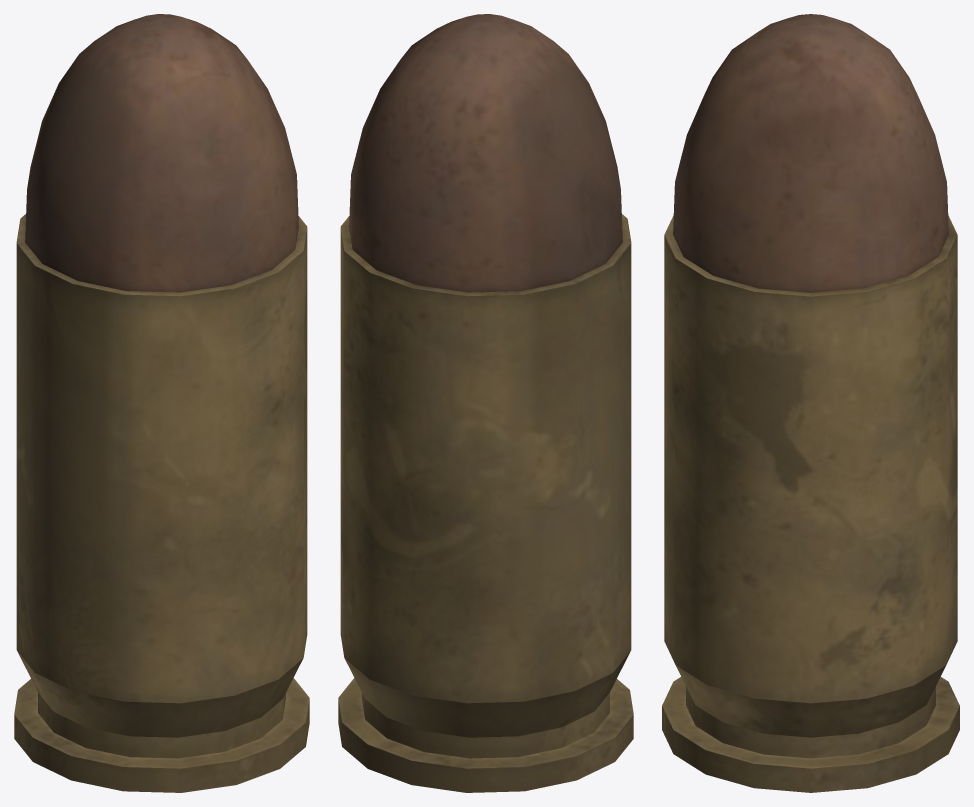
Rendered from 45acp.glb.
The picture shows the model from 3 angles, left to right: view 1: azimuth 30°, elevation 25°; view 2: azimuth 150°, elevation 25°; view 3: azimuth 270°, elevation 25°; orthographic projection.
Visible parts, largest first — view 1: 45acp; view 2: 45acp; view 3: 45acp.
Part boxes in pixels (x1,y1,x2,y2): 45acp: (14,14,309,792); 45acp: (338,14,633,792); 45acp: (662,14,959,792).
Size of the model in its own units: 0.186 by 0.4882 by 0.186.
1 material, 1 textured.
